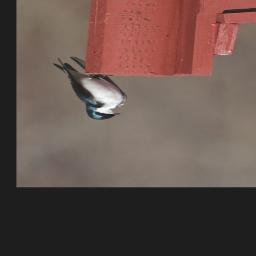Swallow: (52, 57, 128, 121)
